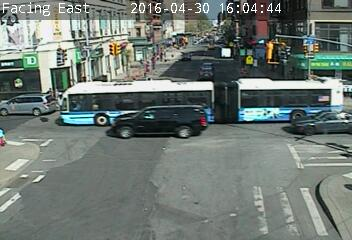neg: (57, 115, 92, 161), (213, 77, 245, 120), (131, 103, 162, 144), (235, 162, 265, 202), (172, 132, 200, 170), (277, 61, 302, 94), (151, 35, 176, 68), (289, 129, 313, 161), (64, 49, 88, 80), (19, 185, 41, 215), (117, 189, 135, 212), (212, 40, 227, 61)
